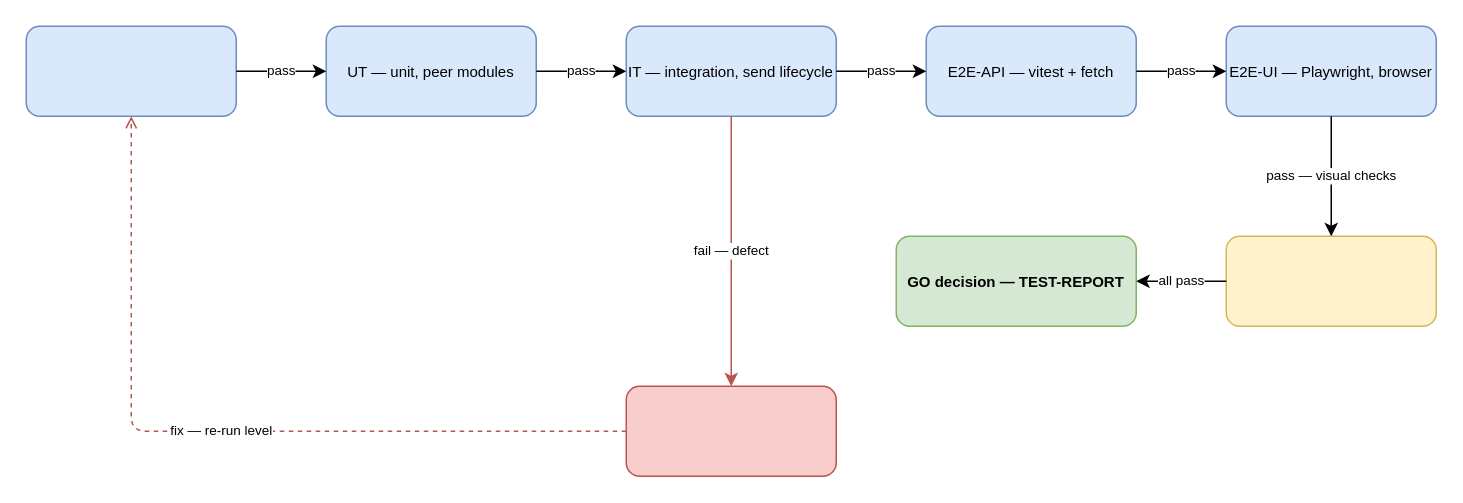
The diagram is 1463 pixels wide and 503 high, and some of its shapes have lost their labels. The centre of each missing label's shape, as x and y in pixels:
"Defect — fix + re-run" belongs at pixel 730 430.
"PBT — property-based, random inputs" belongs at pixel 130 70.
"SIT — manual exploratory, visual / UX" belongs at pixel 1330 280.
